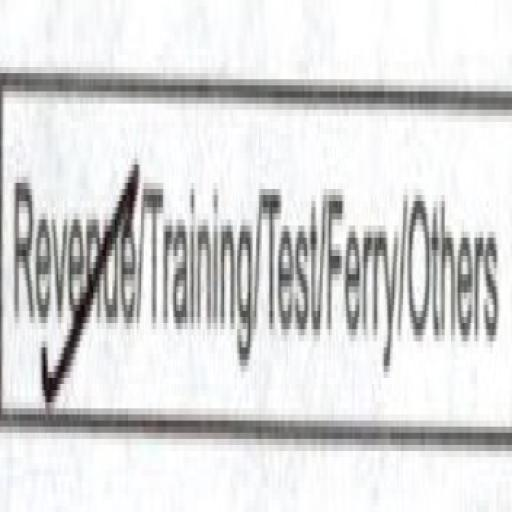check: (0, 0, 140, 511)
